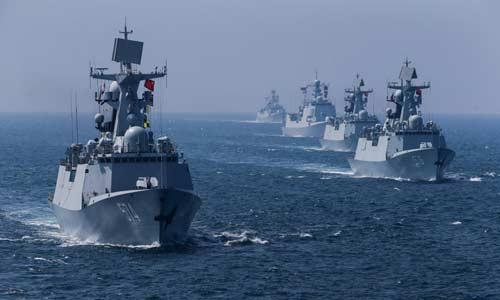MIL_Ship: (49, 20, 207, 250), (348, 57, 459, 180), (319, 77, 387, 153), (280, 75, 341, 138), (255, 85, 287, 125)
